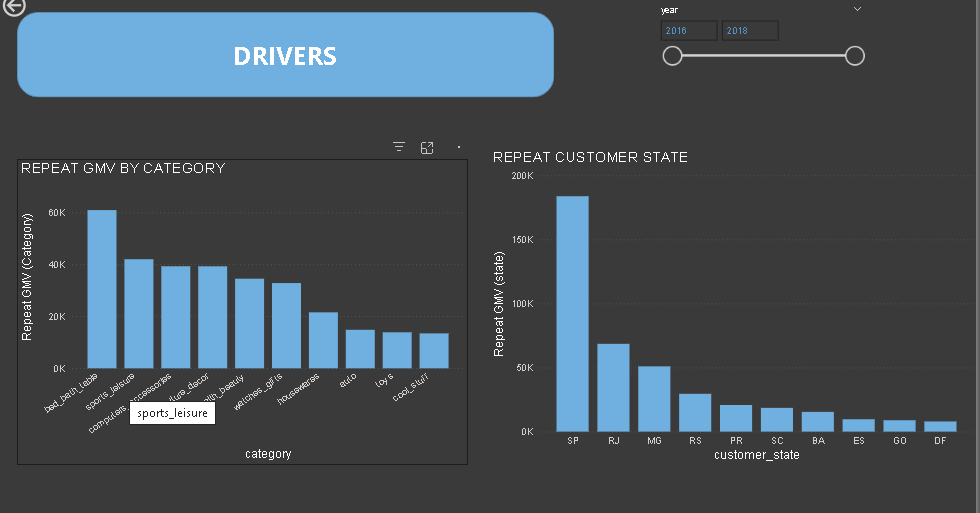

What the dashboard file says about the page in this screenshot:
{"tool":"powerbi","page":{"name":"Page 2","canvas":[1280,720],"ordinal":1},"visuals":[{"type":"columnChart","title":"REPEAT GMV BY CATEGORY","fields":{"Category":["mart mart_repeat_gmv_by_category_month.category"],"Y":["mart mart_repeat_gmv_by_category_month.Repeat GMV (Category)"]},"box":[23.3,221.7,590,400],"z":0},{"type":"actionButton","box":[0,0,23.5,39.7],"z":1000},{"type":"clusteredColumnChart","title":"REPEAT CUSTOMER STATE","fields":{"Category":["mart mart_repeat_gmv_by_state_month.customer_state"],"Y":["mart mart_repeat_gmv_by_state_month.Repeat GMV (state)"]},"box":[640.9,206.8,639.1,415.3],"z":2000},{"type":"slicer","fields":{"Values":["dim_month.year"]},"box":[853.3,13.3,288.3,143.3],"z":3000},{"type":"shape","box":[23.3,28.3,703.3,111.7],"z":4000}]}

Visuals, with their boxes on the page's 1280x720 design canvas (x1, y1, x2, y2). These are canvas units, not pixel positions in the 980x513 screenshot, which may show the page scaled, cropped or inside an application window:
"REPEAT GMV BY CATEGORY" columnChart: crop(23, 222, 613, 622)
actionButton: crop(0, 0, 24, 40)
"REPEAT CUSTOMER STATE" clusteredColumnChart: crop(641, 207, 1280, 622)
slicer - dim_month.year: crop(853, 13, 1142, 157)
shape: crop(23, 28, 727, 140)
